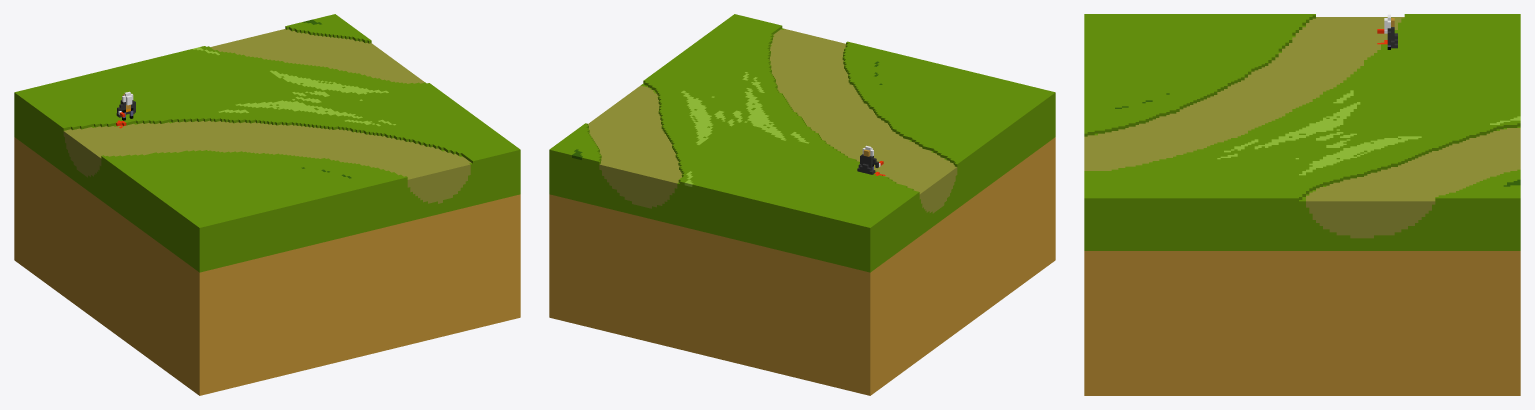
3 renders of one model, left to right at view 1: azimuth 30°, elevation 25°; view 2: azimuth 150°, elevation 25°; view 3: azimuth 270°, elevation 25°, orthographic. The views are drawn at different scales.
Visible parts, largest first — view 1: 9E; view 2: 9E; view 3: 9E.
Boxes of the visible parts, left/top/right/bottom form: 9E: left=14, top=14, right=520, bottom=395; 9E: left=549, top=14, right=1055, bottom=395; 9E: left=1084, top=14, right=1520, bottom=395.
Size of the model in its own units: 12.8 by 7.4 by 12.8.
Materials: 1 (1 with a texture image).
